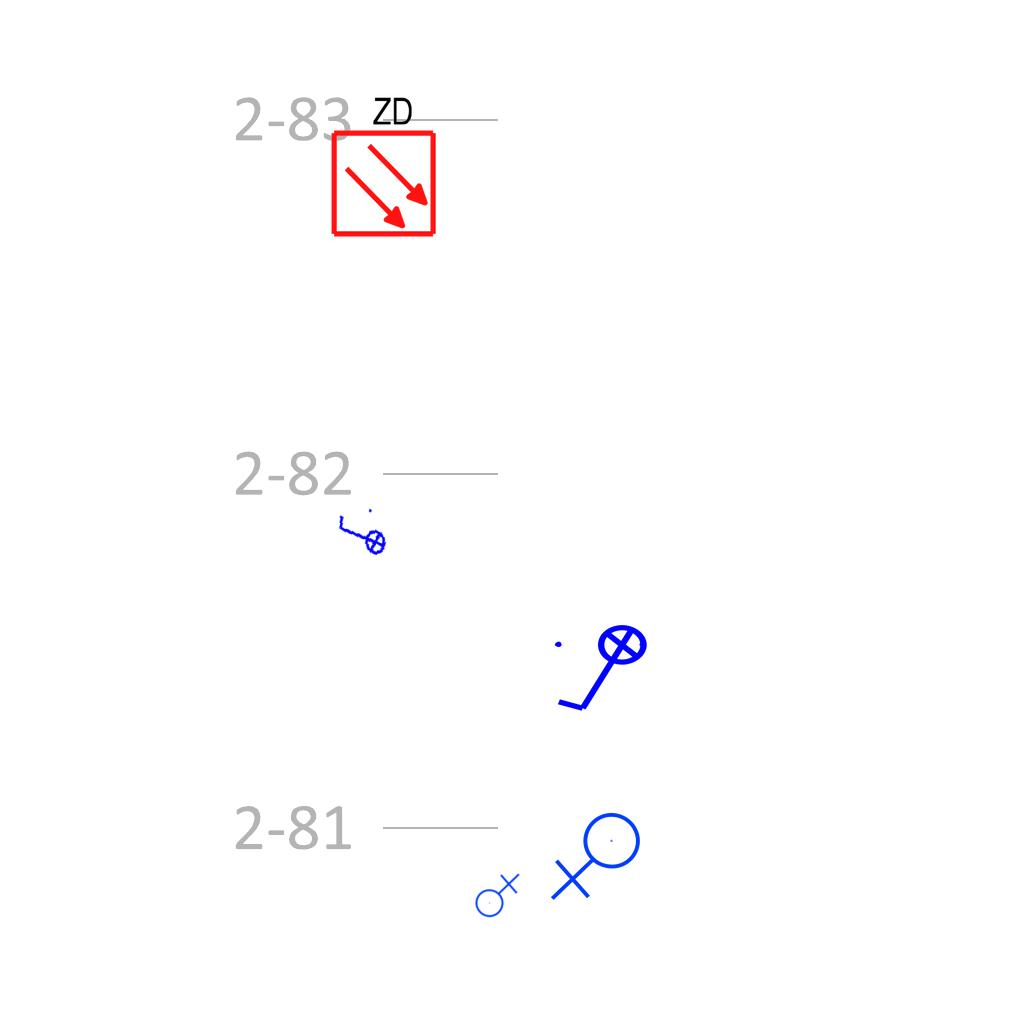Ausschalter_beleuchtet: (549, 623, 661, 719), (332, 504, 390, 568)
Elektroanschluss_allgemein_230V_Geraeteanschlussdose_230V: (550, 811, 649, 905), (471, 871, 520, 918)
ZD_Melder_in_Zwischendecke_mit_Revisionsoeffnung_mind_40_x_40_cm: (325, 90, 439, 239)
